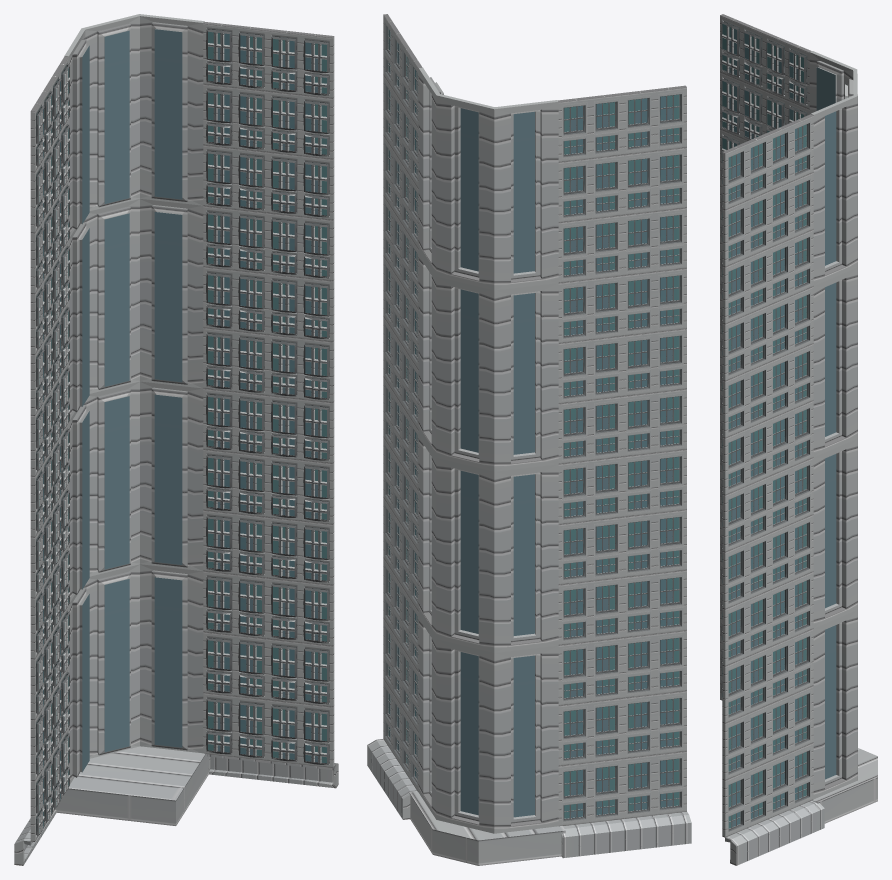
File: TowerTest02.fbx
3 views of the same model, side by side, from view 1: azimuth 30°, elevation 25°; view 2: azimuth 150°, elevation 25°; view 3: azimuth 270°, elevation 25° (orthographic). The views are drawn at different scales.
Parts seen in each view (by area): view 1: MegaBuilding01; view 2: MegaBuilding01; view 3: MegaBuilding01.
Part boxes in pixels (left/top/right/bottom): MegaBuilding01: left=14, top=14, right=338, bottom=865; MegaBuilding01: left=367, top=14, right=691, bottom=865; MegaBuilding01: left=720, top=14, right=877, bottom=865.
Bounding box in the file's own units: 2462 × 5464 × 1104.
